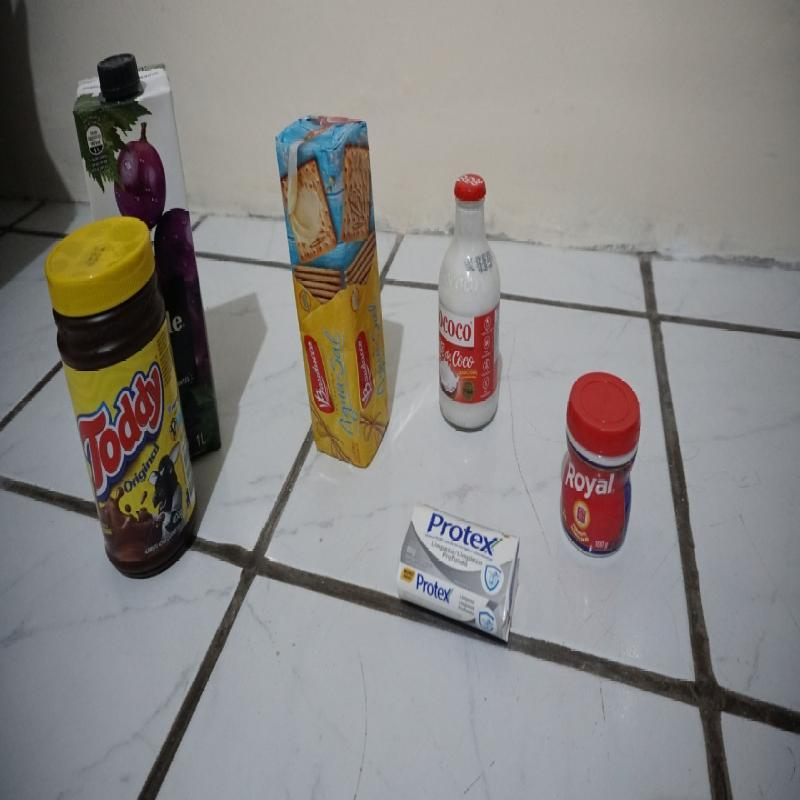Chocolate Powder: (42, 216, 199, 580)
Coconut Milk: (436, 174, 505, 434)
Cracker: (274, 112, 392, 472)
Soap: (395, 505, 521, 645)
Yeast: (559, 370, 642, 560)
